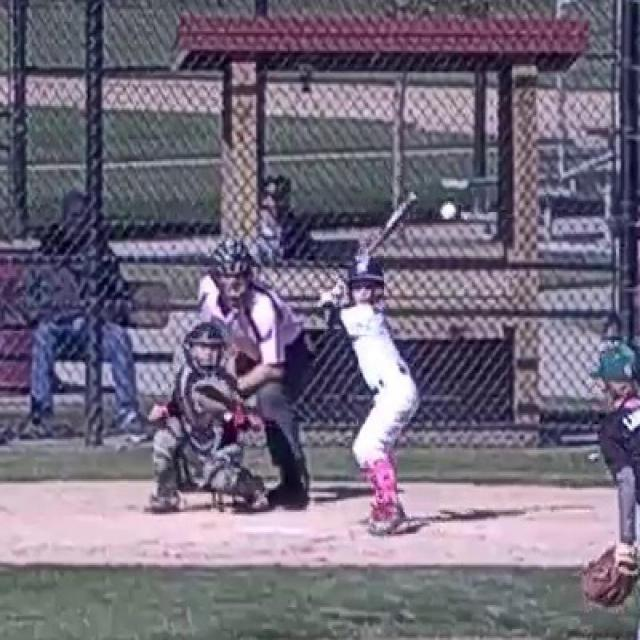baseball: (443, 204, 455, 218)
